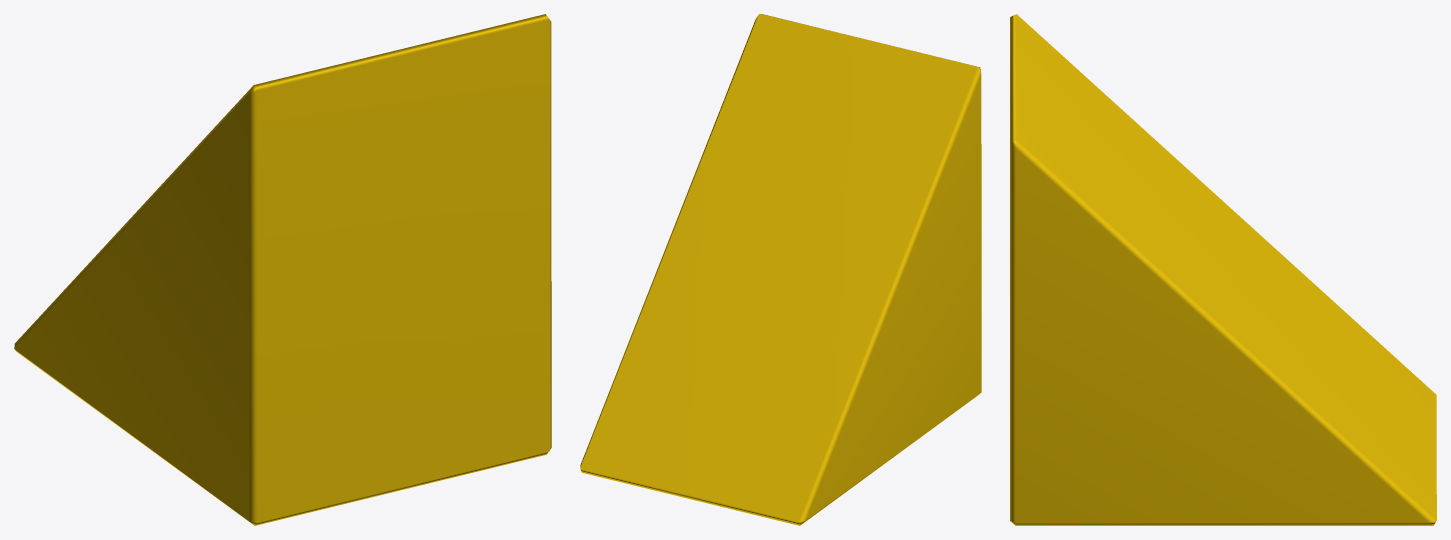
The model's file is Triangle01.fbx.
The picture shows the model from 3 angles, left to right: view 1: azimuth 30°, elevation 25°; view 2: azimuth 150°, elevation 25°; view 3: azimuth 270°, elevation 25°; orthographic projection. The views are drawn at different scales.
Parts seen in each view (by area): view 1: Triangle4Inch001; view 2: Triangle4Inch001; view 3: Triangle4Inch001.
Part boxes in pixels (left/top/right/bottom): Triangle4Inch001: left=14, top=14, right=551, bottom=525; Triangle4Inch001: left=580, top=14, right=981, bottom=525; Triangle4Inch001: left=1010, top=14, right=1436, bottom=525.
Size of the model in its own units: 5.08 by 7.08 by 7.08.
